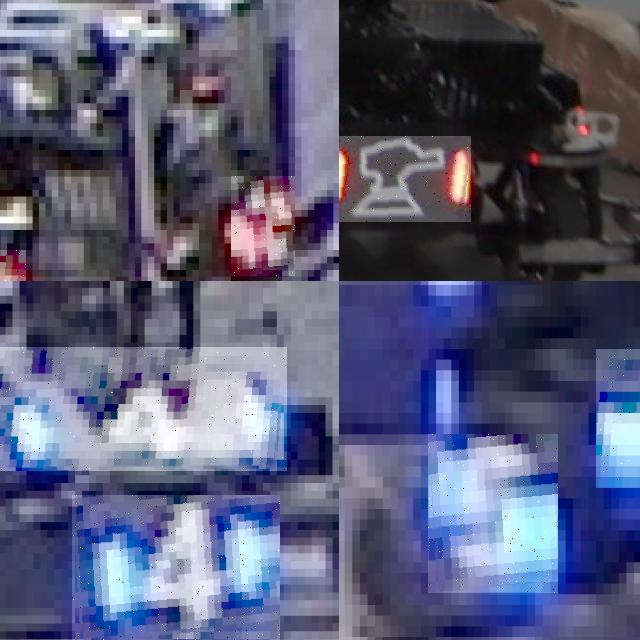B5: (428, 434, 558, 594)
R2: (231, 176, 295, 276)
R4: (0, 346, 287, 471), (71, 494, 280, 640)
Rs: (339, 136, 471, 221)
